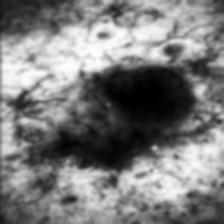Potentially Malignant Skin Tumors: (113, 59, 179, 127)
